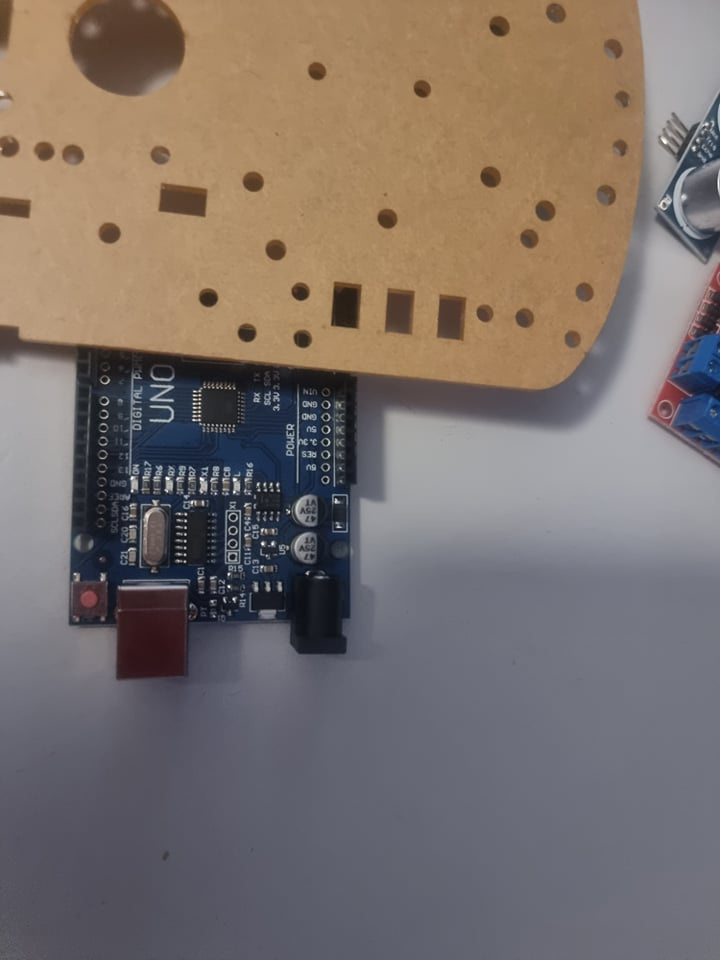UNO R3: (67, 354, 382, 689)
